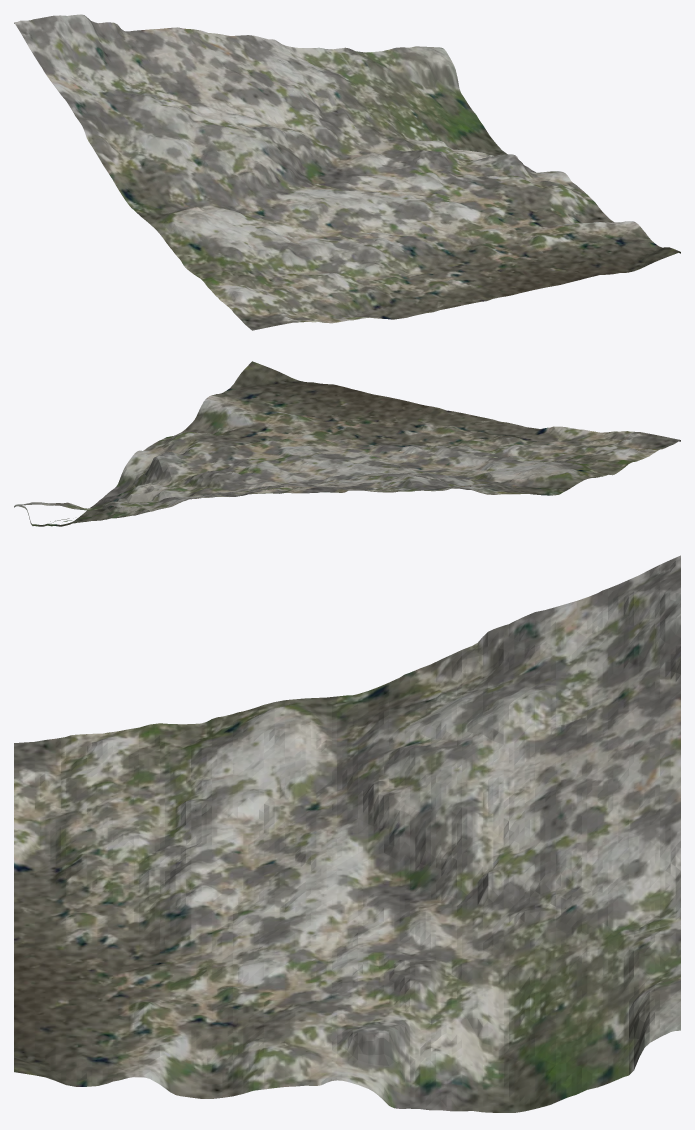
The picture shows the model from 3 angles, top to bottom: view 1: azimuth 30°, elevation 25°; view 2: azimuth 150°, elevation 25°; view 3: azimuth 270°, elevation 25°; orthographic projection. The views are drawn at different scales.
Bounding box in the file's own units: 250 × 106 × 241.
Materials: 1 (1 with a texture image).
